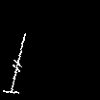treble_crochet: (3, 33, 25, 92)
